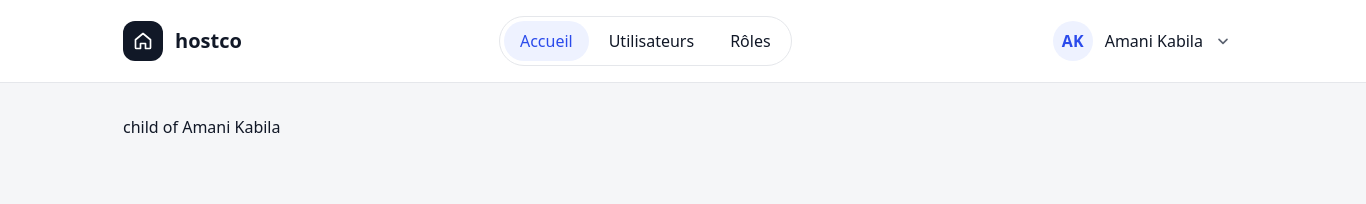
AdminShell (fr) › closes the account menu on a click elsewhere, such as a nav link
The image size is (1366, 204).
Click the button "AK Amani Kabila".
click(1146, 41)  # box x1=1049 y1=17 x2=1243 y2=65
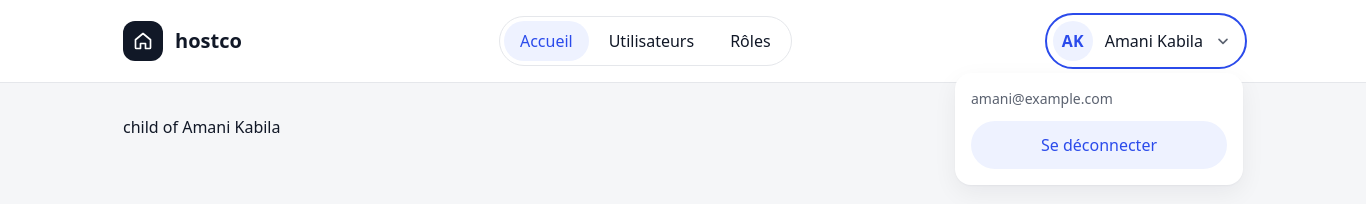
Expected: the button "AK Amani Kabila" has attribute aria-controls, x1=1049 y1=17 x2=1243 y2=65
Click the element showing "child of Amani Kabila".
click(202, 127)  # box x1=123 y1=116 x2=280 y2=138
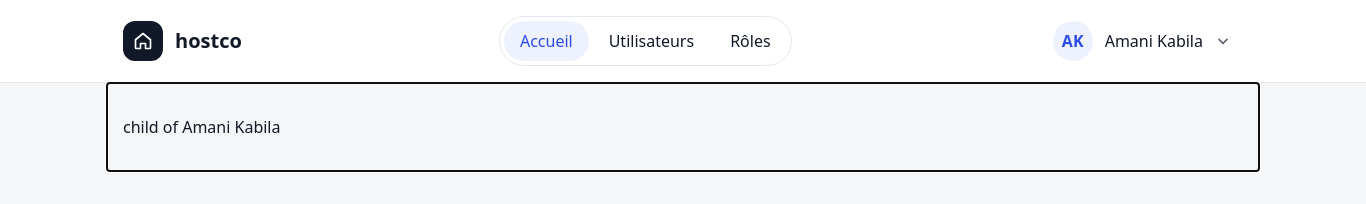
Expected: the button "AK Amani Kabila" is collapsed, x1=1049 y1=17 x2=1243 y2=65
